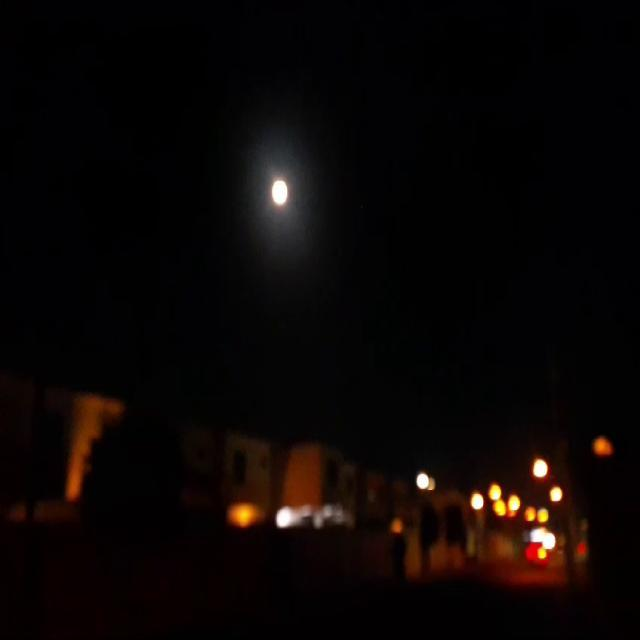moon: (270, 175, 290, 209)
